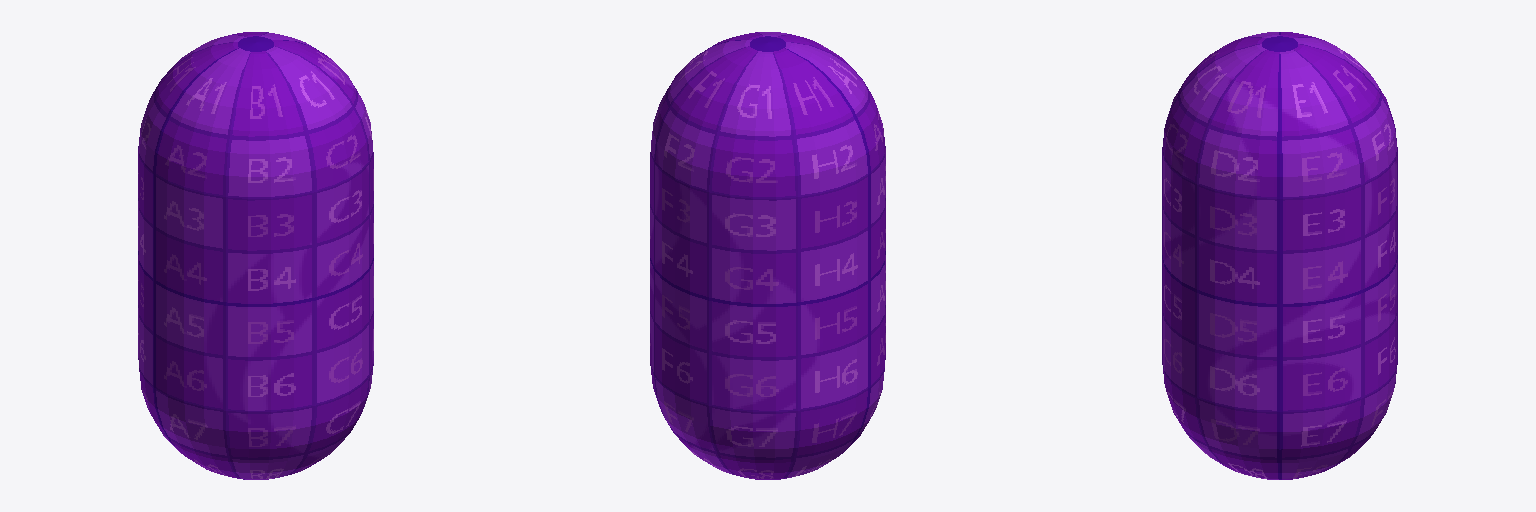
3 views of the same model, side by side, from view 1: azimuth 30°, elevation 25°; view 2: azimuth 150°, elevation 25°; view 3: azimuth 270°, elevation 25° (orthographic).
Parts seen in each view (by area): view 1: CapsuleB; view 2: CapsuleB; view 3: CapsuleB.
Boxes of the visible parts, <box> form: CapsuleB: <box>138,32,373,479</box>; CapsuleB: <box>650,32,885,479</box>; CapsuleB: <box>1162,32,1397,479</box>.
Bounding box in the file's own units: 2 × 4 × 2.
Materials: 1 (1 with a texture image).